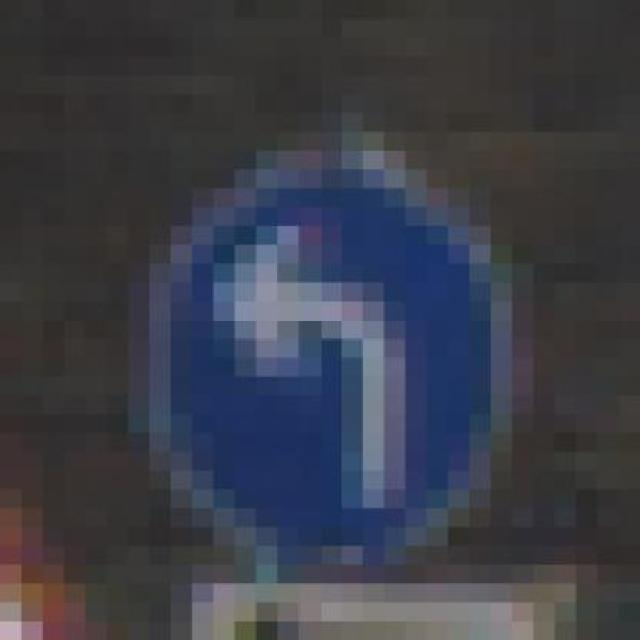Turn left ahead: (106, 112, 534, 565)
